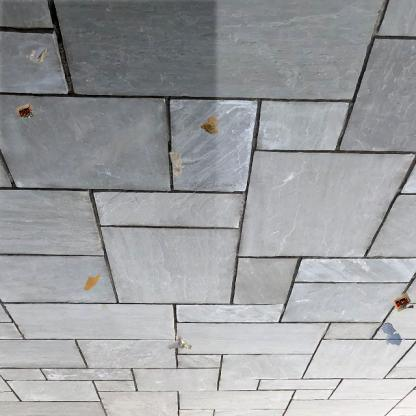dirty: (390, 290, 415, 314), (165, 332, 194, 352), (198, 114, 221, 136), (167, 150, 183, 178), (25, 45, 47, 64), (14, 102, 36, 120)
liquid: (380, 321, 403, 347), (83, 272, 100, 292)
